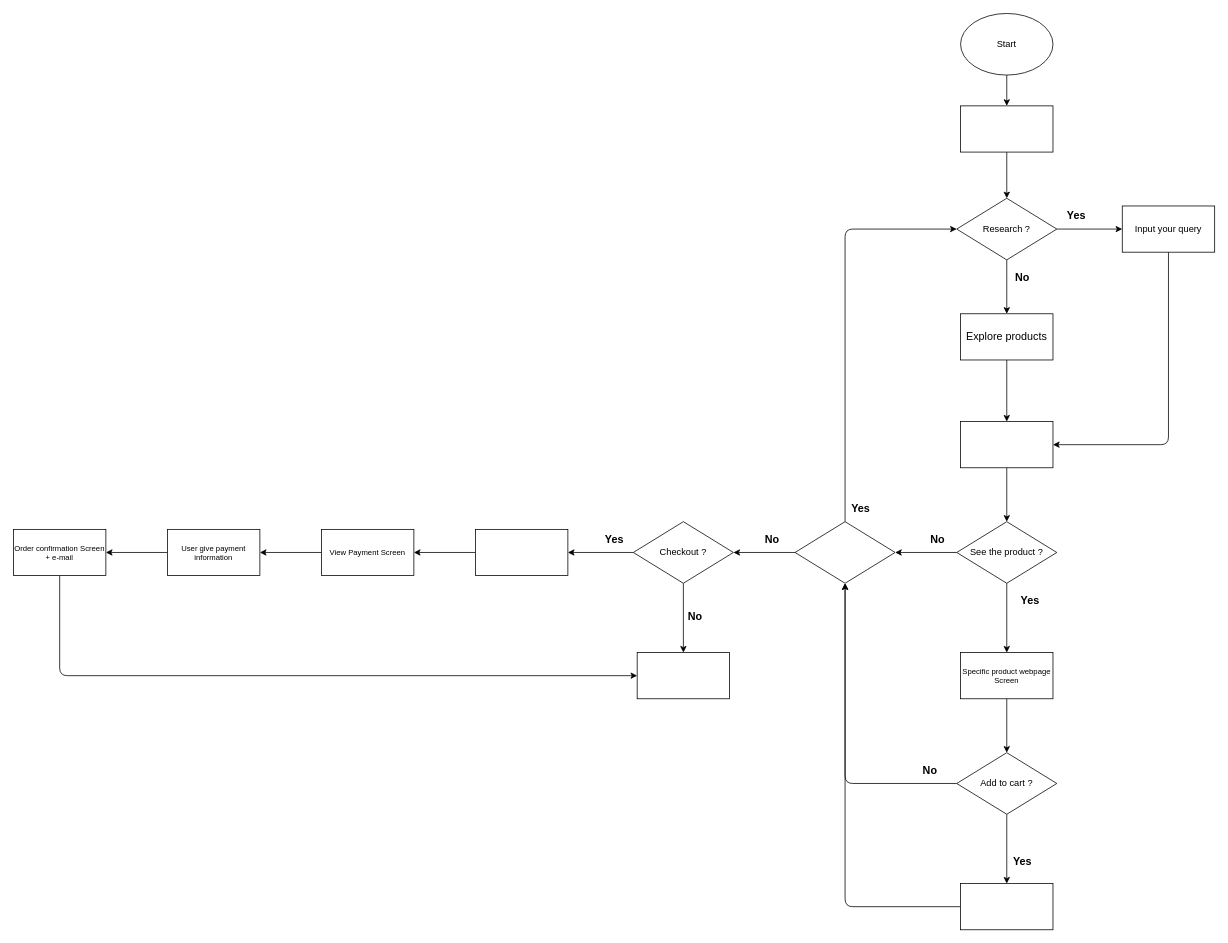
Some shapes in this 1228 by 943 pixel diagram are drawn without their labels. Here are the shapes that lost their labels. From the top down, the centre of each, then its label:
the point at 1006,128: User
the point at 1006,444: View specific product
the point at 521,552: View Cart Screen
the point at 844,552: Continue shopping ?
the point at 683,675: Leave
the point at 1006,906: Add to cart confirmation popup
